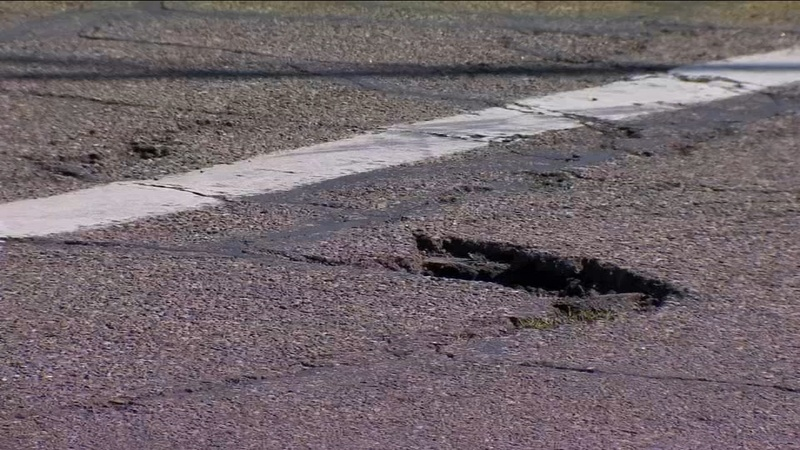pothole: (340, 179, 714, 358)
